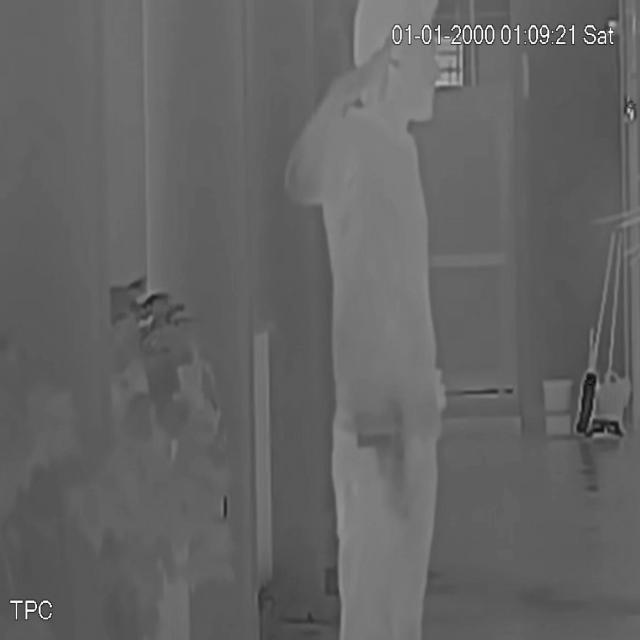Weapon: (348, 397, 428, 539)
